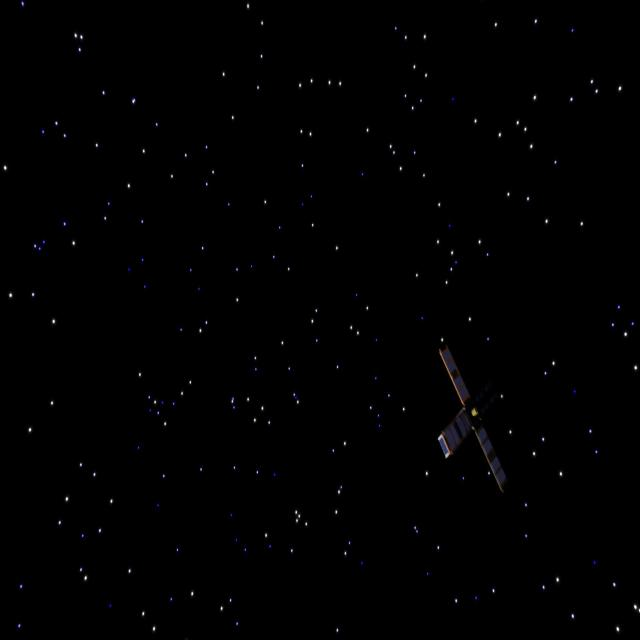medium_debris: (416, 342, 521, 502)
